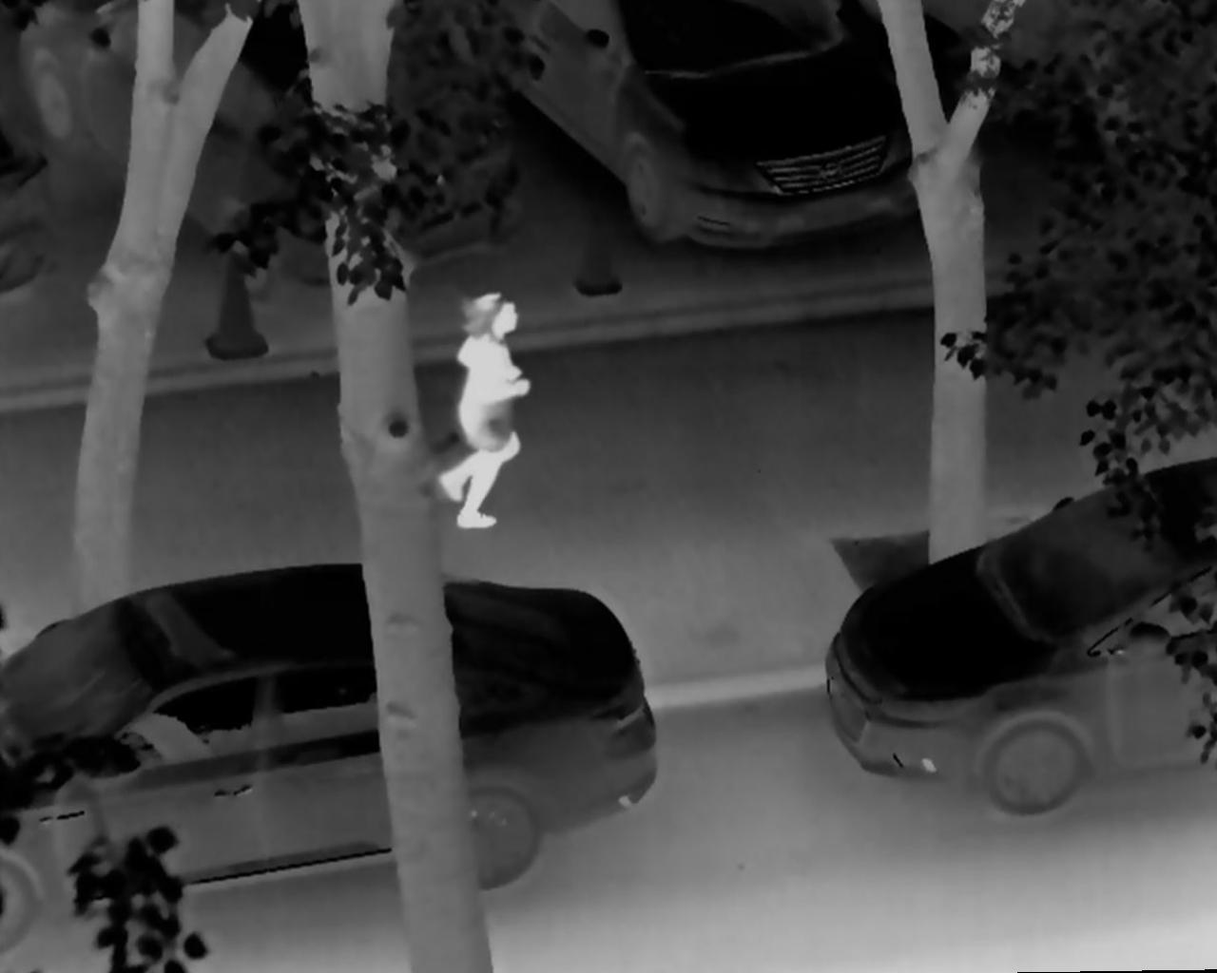person: (428, 291, 533, 544)
